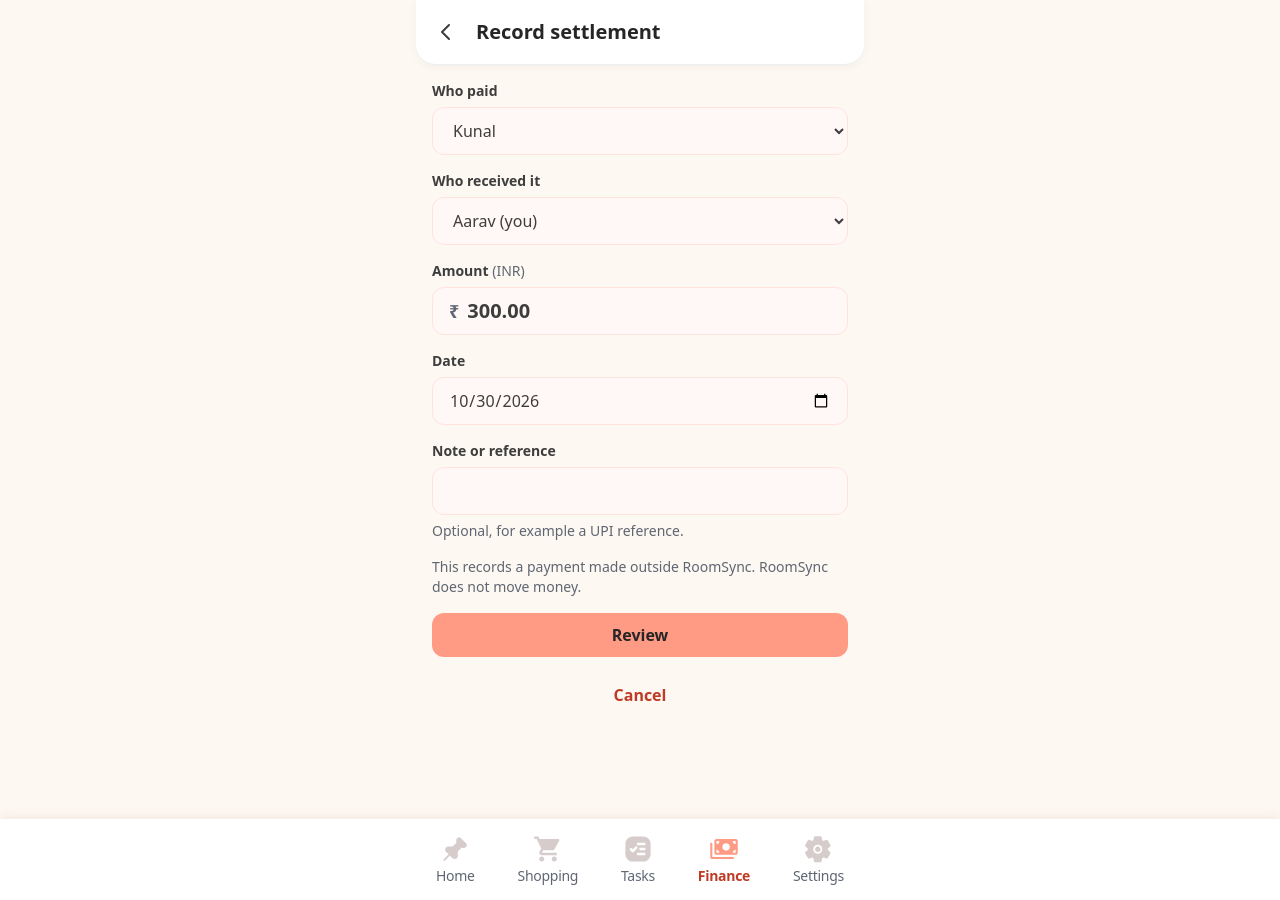
Test: record settlement (Journey D) › review states that RoomSync moves no money, and does not claim a payment was sent
Click the button "Review": (640, 635) [432,613,848,657]
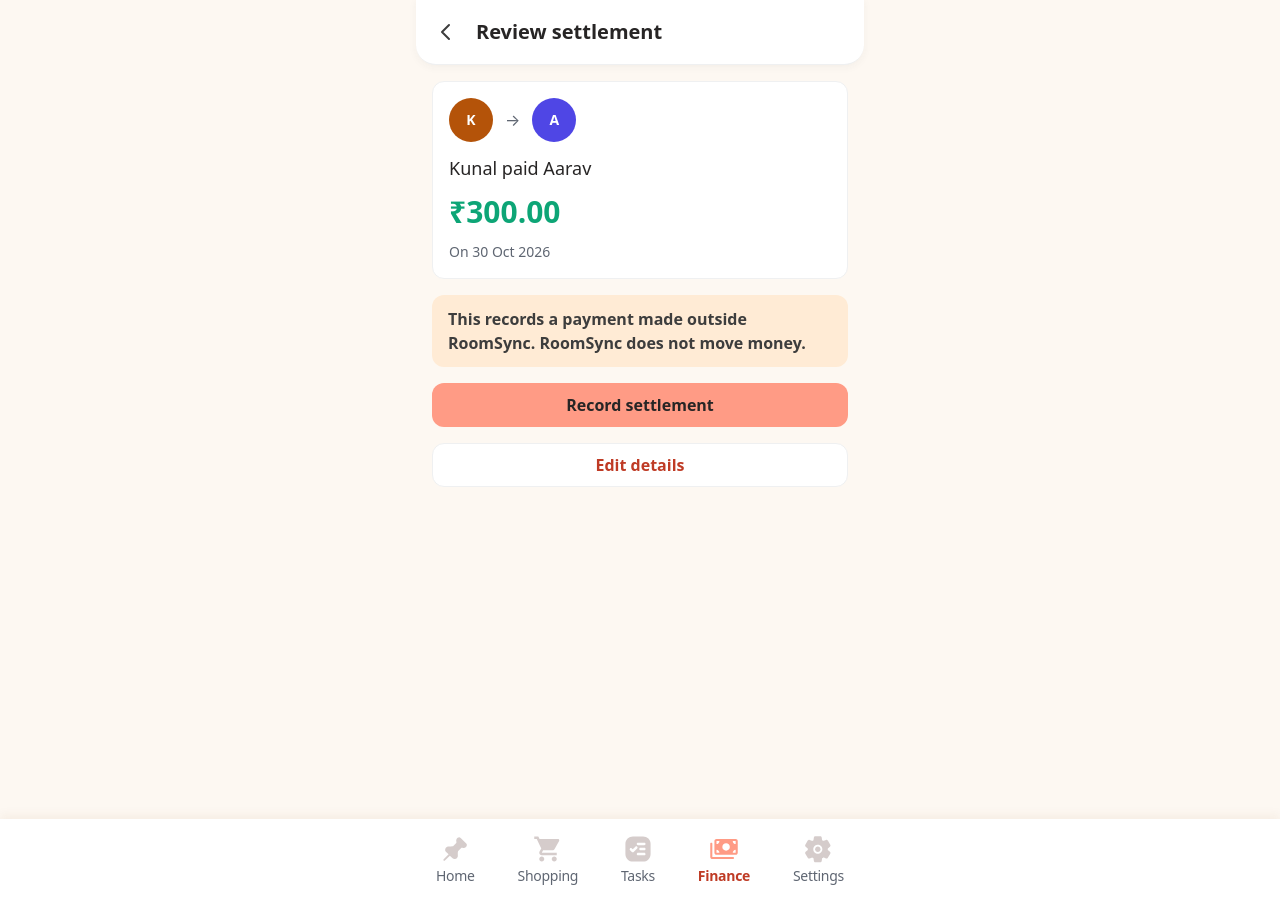
Expected: the text "This records a payment made outside RoomSync. RoomSync does not move money." is shown, [432,295,848,367]
Now the heading "Review settlement" is shown, box [476,18,662,45]
Now the text "₹300.00" is shown, box [449,191,560,232]
